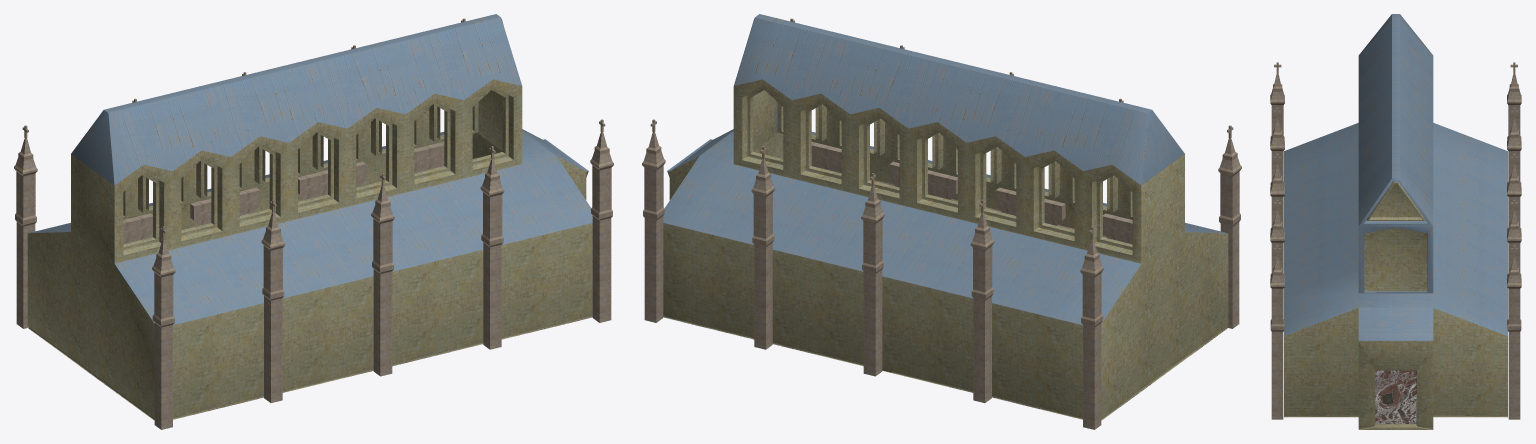
Rendered from cathedral.glb.
The picture shows the model from 3 angles, left to right: view 1: azimuth 30°, elevation 25°; view 2: azimuth 150°, elevation 25°; view 3: azimuth 270°, elevation 25°; orthographic projection. The views are drawn at different scales.
Parts seen in each view (by area): view 1: cathedral_main, outside poles, inside post; view 2: cathedral_main, outside poles, inside post; view 3: cathedral_main, outside poles.
Boxes of the visible parts, x1,y1,x2,y2 form: cathedral_main: (27,14,592,420); outside poles: (14,18,613,429); inside post: (123,142,444,244); cathedral_main: (663,14,1228,420); outside poles: (642,18,1241,429); inside post: (811,142,1132,244); cathedral_main: (1284,14,1507,429); outside poles: (1270,62,1521,419).
Size of what is drawn, in the model's own units: 240 by 125 by 127.
8 materials, 8 textured.
